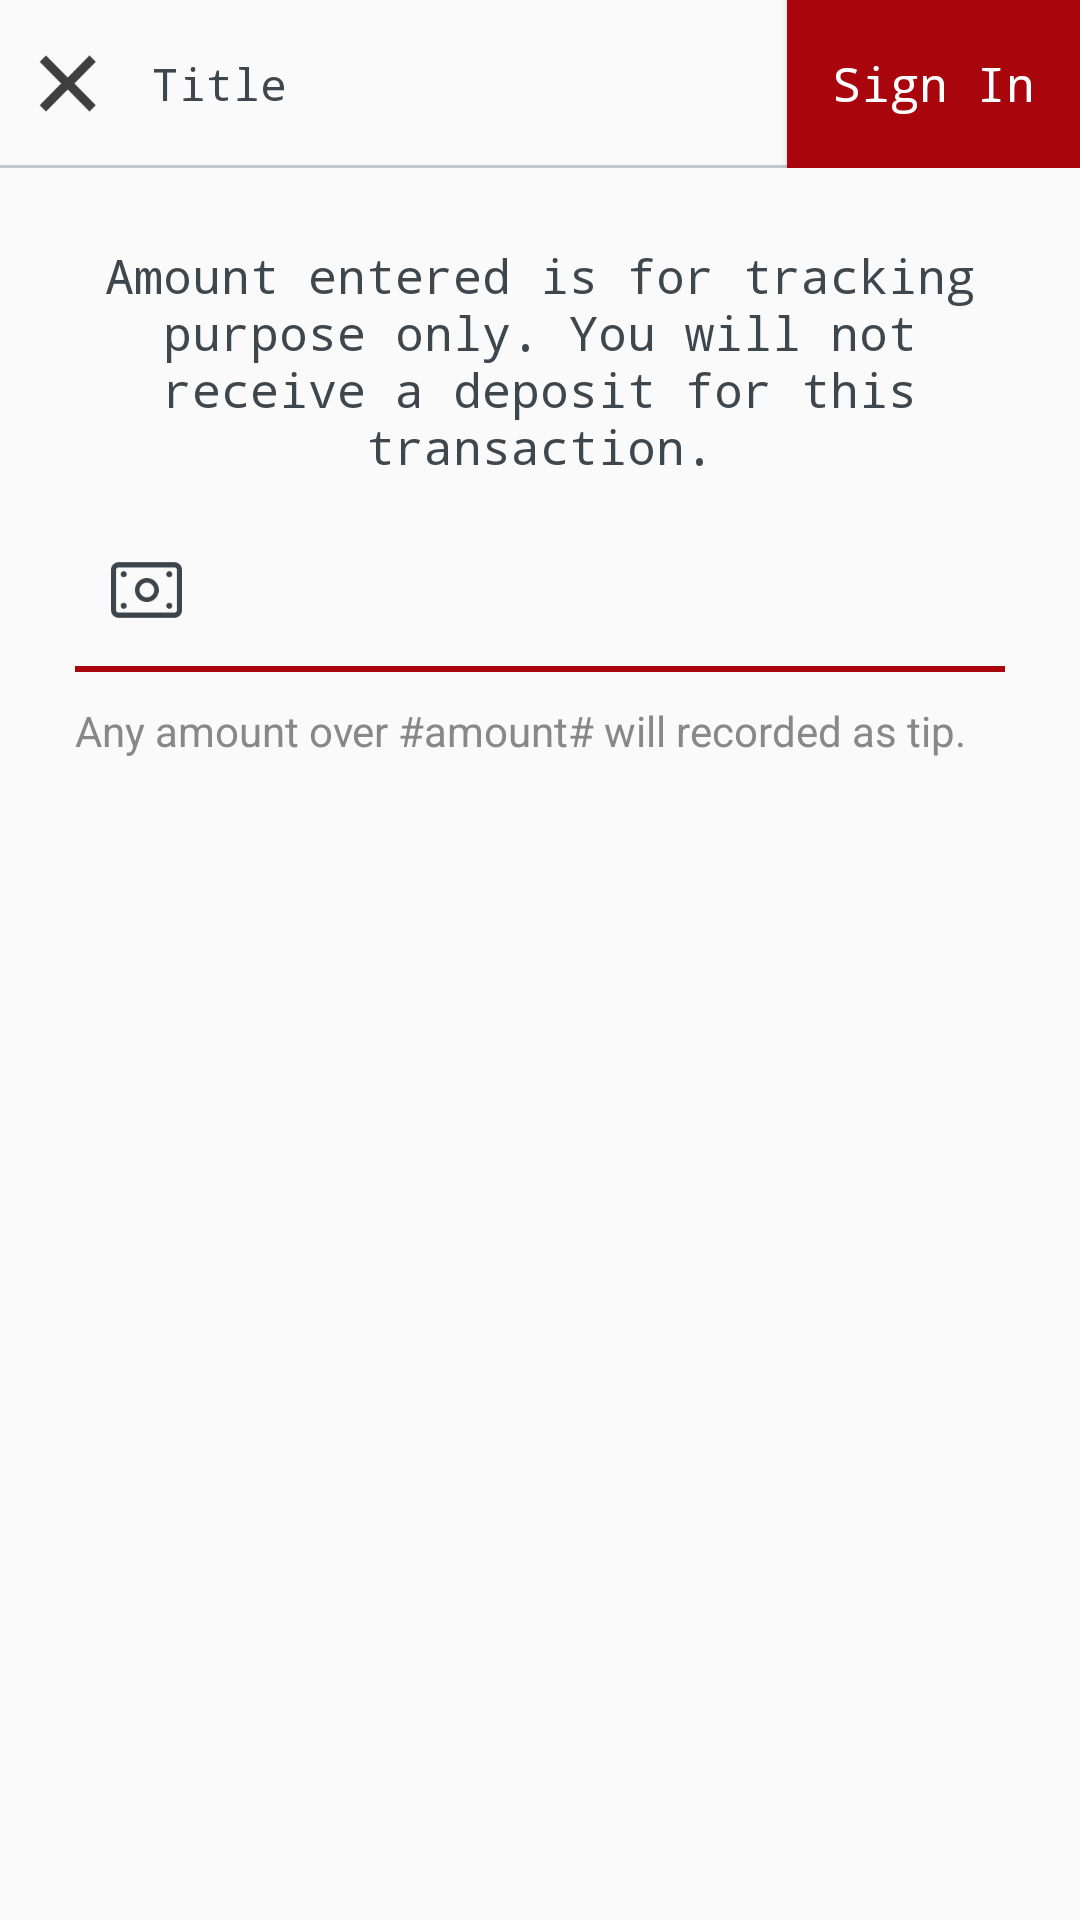

Locate icon controls on the screen. Image size 1080x1920, boxes as region(x1, y1, x2, y2).
close: region(40, 55, 96, 112)
